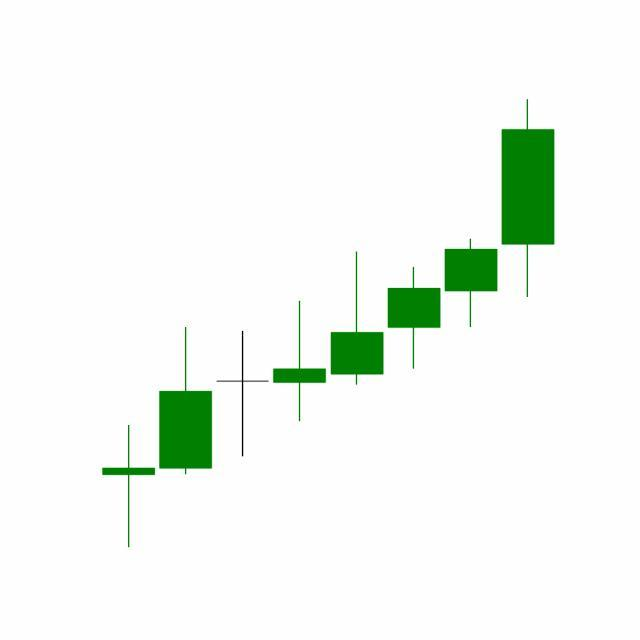Hikkake Pattern: (214, 236, 501, 459)
